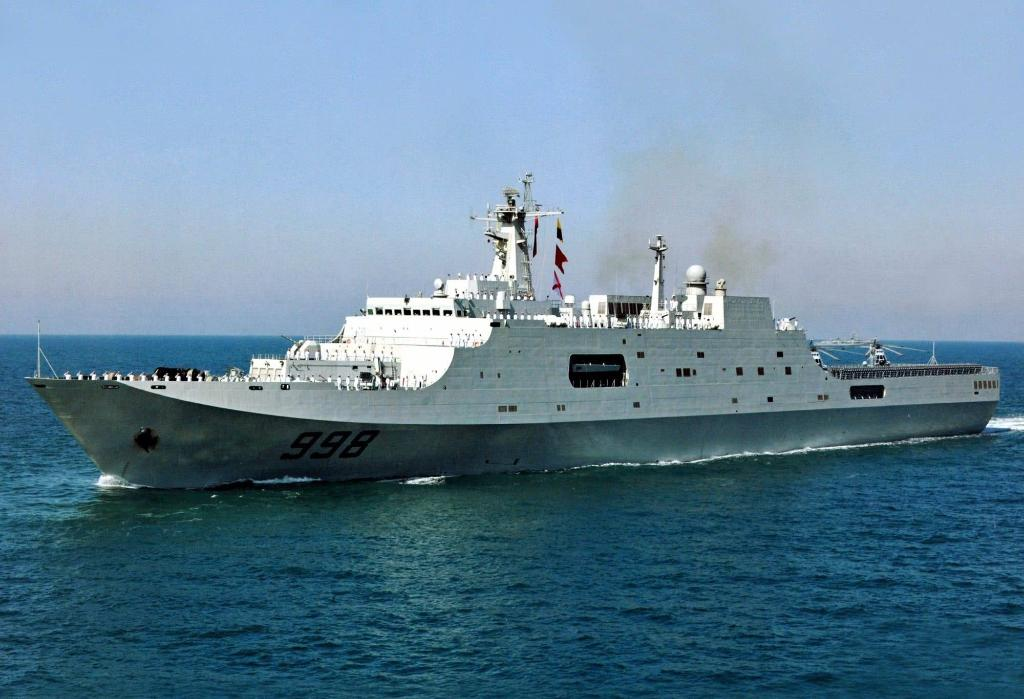Warship: (27, 170, 1001, 490)
